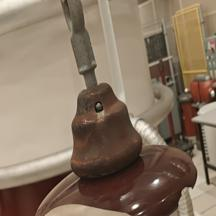insulator: (22, 79, 204, 216)
